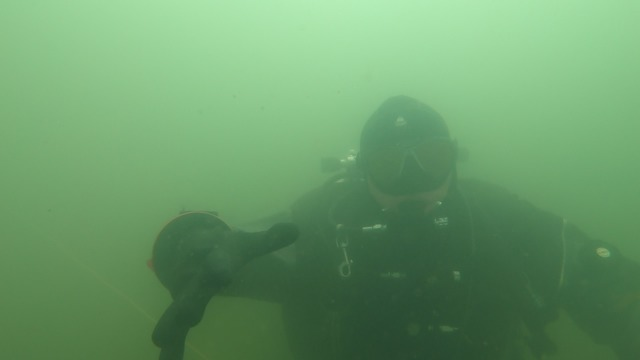Diver: (135, 88, 639, 359)
Hand: (142, 215, 302, 350)
Head: (347, 89, 468, 245)
